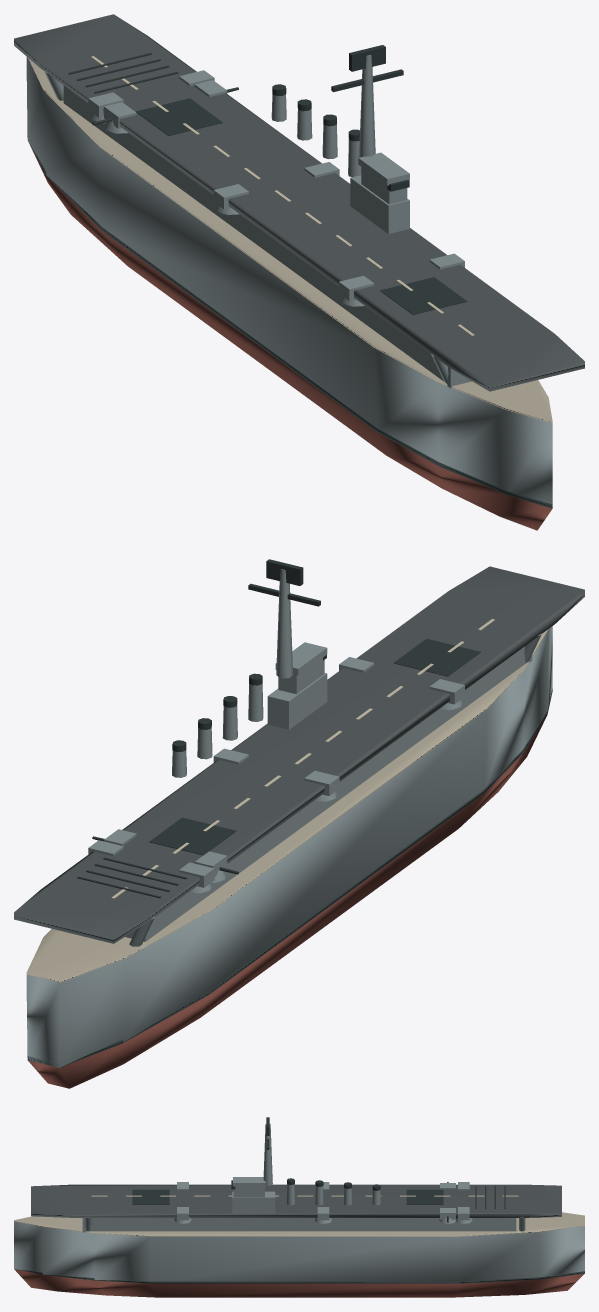
The model's file is independence.glb.
3 views of the same model, one above another, from view 1: azimuth 30°, elevation 25°; view 2: azimuth 150°, elevation 25°; view 3: azimuth 270°, elevation 25° (orthographic). The views are drawn at different scales.
Parts seen in each view (by area): view 1: FlightDeck, Freeboard, UnderwaterHull, Deck, Hangar, Waterline, Bridge-Foundation, Elevator-0.26, Elevator--0.22, Foremast-Pole, Bridge-Roof, Bridge-Command (+1 smaller); view 2: FlightDeck, Freeboard, Deck, UnderwaterHull, Hangar, Waterline, Bridge-Foundation, Elevator-0.26, Elevator--0.22, Foremast-Pole, Bridge-Command, Bridge-Roof (+1 smaller); view 3: Freeboard, FlightDeck, UnderwaterHull, Hangar, Deck, Waterline, Bridge-Foundation, Elevator-0.26, Elevator--0.22, Foremast-Pole, Bridge-Command, Bridge-Roof.
Part boxes in pixels (left/top/right/bottom): FlightDeck: left=14, top=14, right=584, bottom=391; Freeboard: left=26, top=57, right=552, bottom=506; UnderwaterHull: left=29, top=143, right=552, bottom=530; Deck: left=28, top=58, right=552, bottom=423; Hangar: left=63, top=85, right=471, bottom=388; Waterline: left=27, top=136, right=552, bottom=508; Bridge-Foundation: left=350, top=175, right=409, bottom=233; Elevator-0.26: left=380, top=277, right=467, bottom=314; Elevator--0.22: left=135, top=98, right=222, bottom=135; Foremast-Pole: left=359, top=54, right=375, bottom=157; Bridge-Roof: left=358, top=152, right=409, bottom=185; Bridge-Command: left=361, top=167, right=407, bottom=204; FlightDeck: left=14, top=566, right=584, bottom=943; Freeboard: left=26, top=626, right=552, bottom=1067; Deck: left=26, top=629, right=548, bottom=982; UnderwaterHull: left=28, top=716, right=546, bottom=1088; Hangar: left=125, top=646, right=532, bottom=941; Waterline: left=27, top=688, right=552, bottom=1067; Bridge-Foundation: left=267, top=673, right=327, bottom=729; Elevator-0.26: left=394, top=638, right=480, bottom=676; Elevator--0.22: left=149, top=817, right=236, bottom=855; Foremast-Pole: left=276, top=569, right=293, bottom=678; Bridge-Command: left=278, top=657, right=324, bottom=694; Bridge-Roof: left=275, top=642, right=327, bottom=675; Freeboard: left=14, top=1221, right=584, bottom=1281; FlightDeck: left=31, top=1184, right=561, bottom=1217; UnderwaterHull: left=14, top=1269, right=584, bottom=1297; Hangar: left=82, top=1218, right=516, bottom=1232; Deck: left=14, top=1212, right=584, bottom=1236; Waterline: left=16, top=1269, right=584, bottom=1283; Bridge-Foundation: left=232, top=1191, right=275, bottom=1213; Elevator-0.26: left=132, top=1189, right=169, bottom=1204; Elevator--0.22: left=406, top=1189, right=443, bottom=1204; Foremast-Pole: left=263, top=1124, right=272, bottom=1185; Bridge-Command: left=233, top=1186, right=264, bottom=1197; Bridge-Roof: left=233, top=1177, right=265, bottom=1186.
Bounding box in the file's own units: 35.5 × 71.9 × 210.
